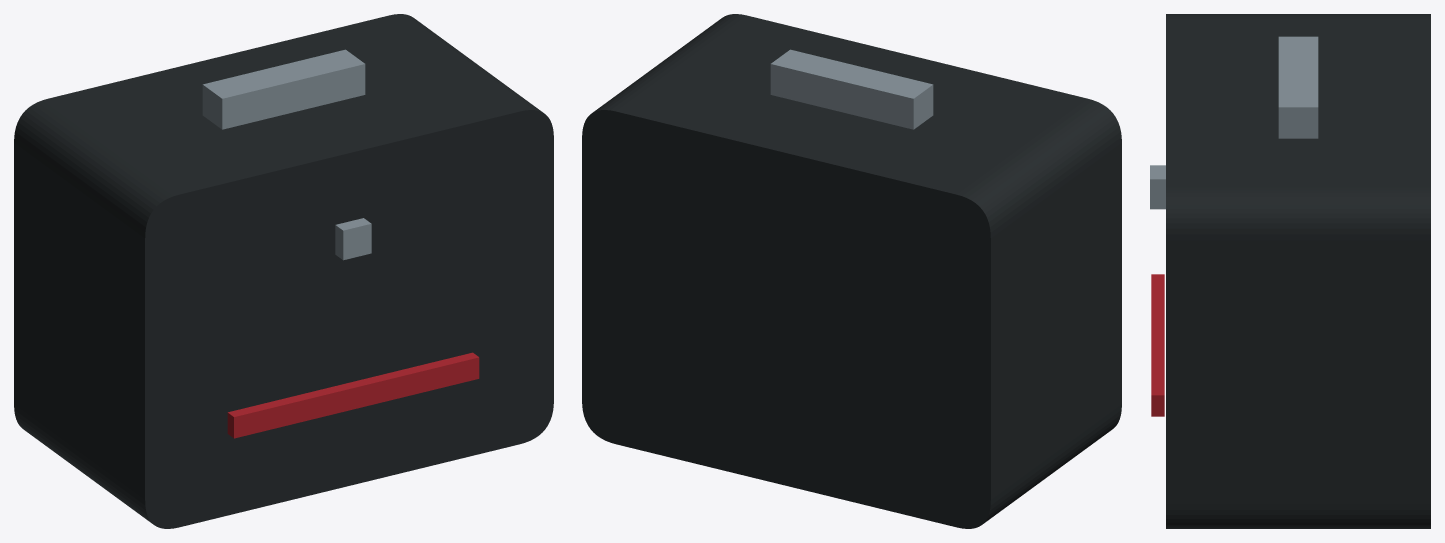
The model's file is saddlebag-compact.glb.
The picture shows the model from 3 angles, left to right: view 1: azimuth 30°, elevation 25°; view 2: azimuth 150°, elevation 25°; view 3: azimuth 270°, elevation 25°; orthographic projection.
Visible parts, largest first — view 1: preset-saddlebag-compact; view 2: preset-saddlebag-compact; view 3: preset-saddlebag-compact.
Part boxes in pixels (<box>): preset-saddlebag-compact: <box>14,14,553,528</box>; preset-saddlebag-compact: <box>582,14,1121,528</box>; preset-saddlebag-compact: <box>1150,14,1430,528</box>.
Size of the model in its own units: 0.36 by 0.306 by 0.212.
